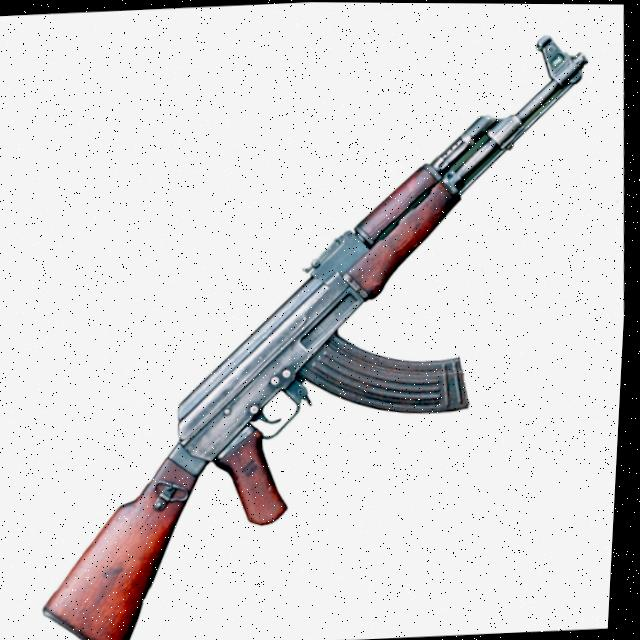firearm: (18, 27, 618, 640)
